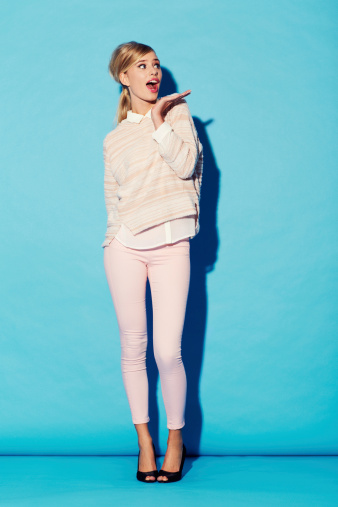em pe: (94, 27, 227, 487)
